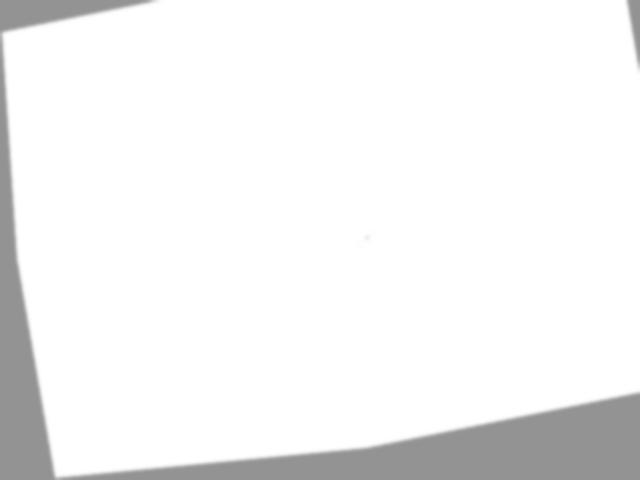uav: (340, 225, 384, 269)
